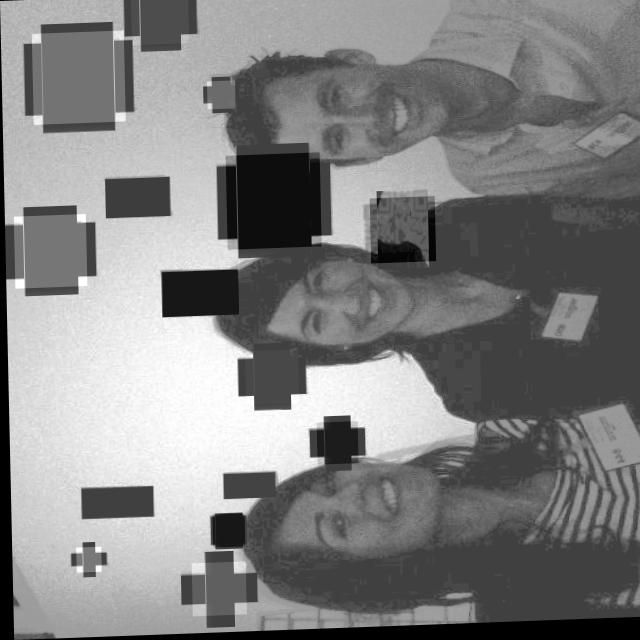qr_code: (225, 154, 321, 251), (32, 30, 125, 124), (13, 214, 86, 288), (369, 198, 435, 265), (160, 270, 238, 317), (189, 562, 244, 617), (243, 351, 297, 405), (104, 177, 170, 218), (131, 0, 189, 45), (79, 486, 152, 519), (315, 423, 356, 466), (221, 473, 273, 500), (210, 514, 243, 548), (207, 81, 235, 110), (74, 546, 99, 572)
